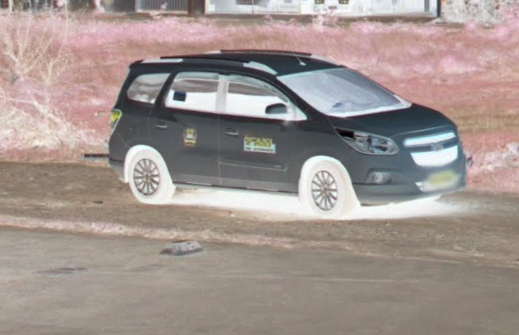car: (106, 46, 470, 220)
